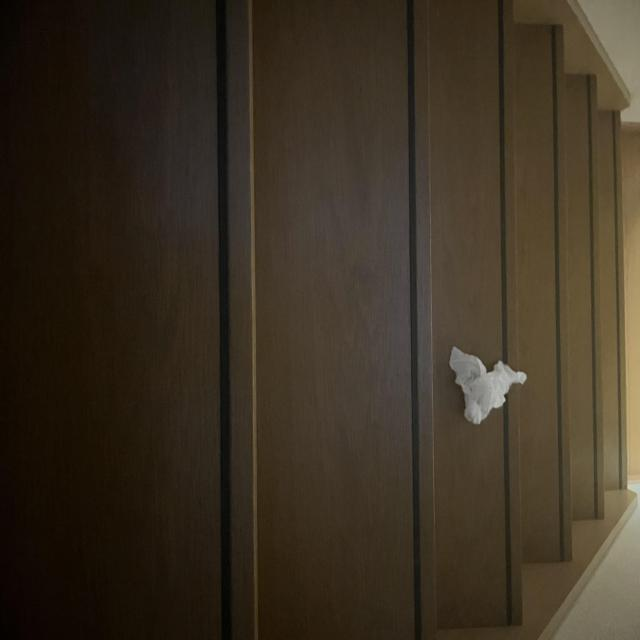Paper: (444, 326, 540, 439)
